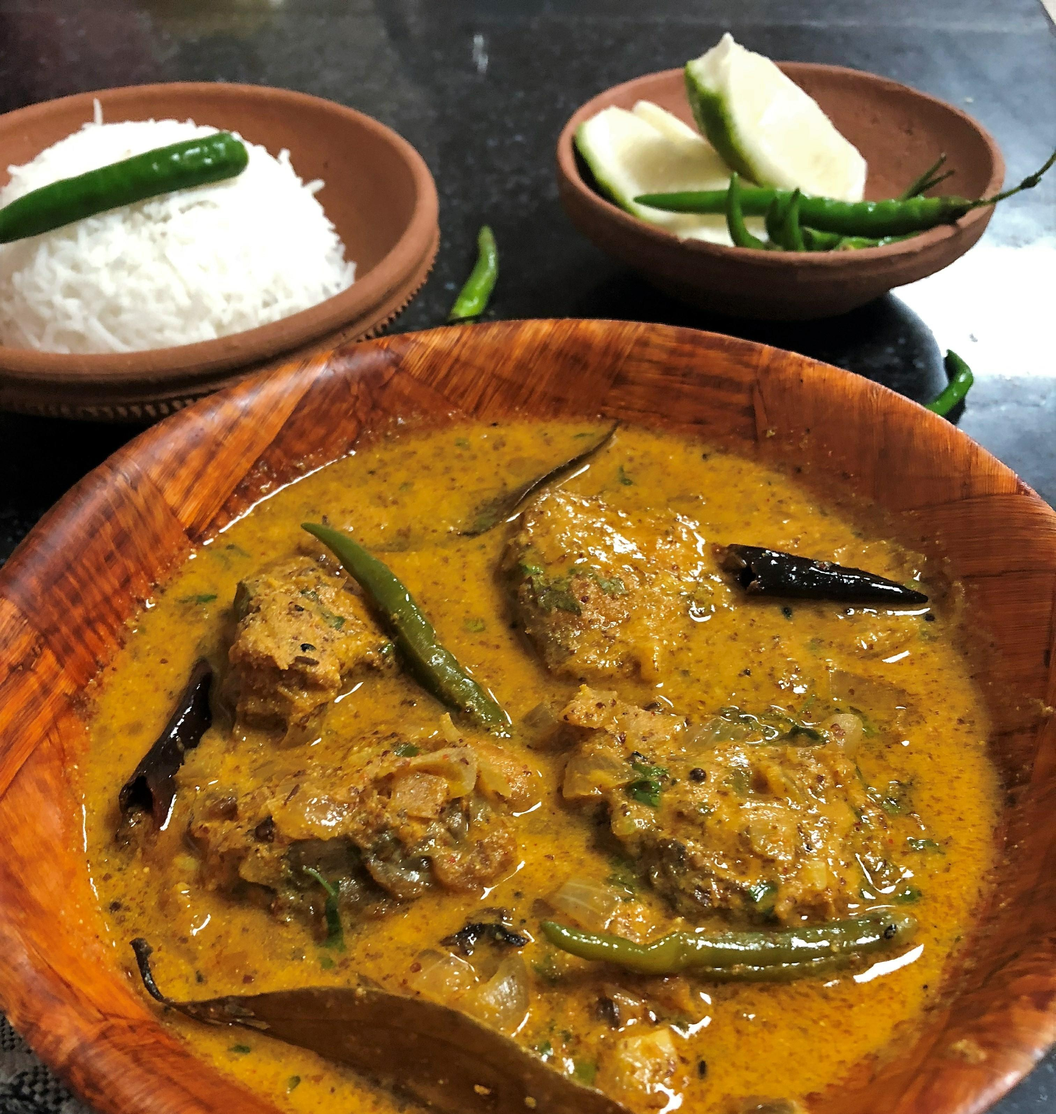FishCurry: (86, 417, 989, 1114)
WhiteRice: (4, 123, 356, 337)
